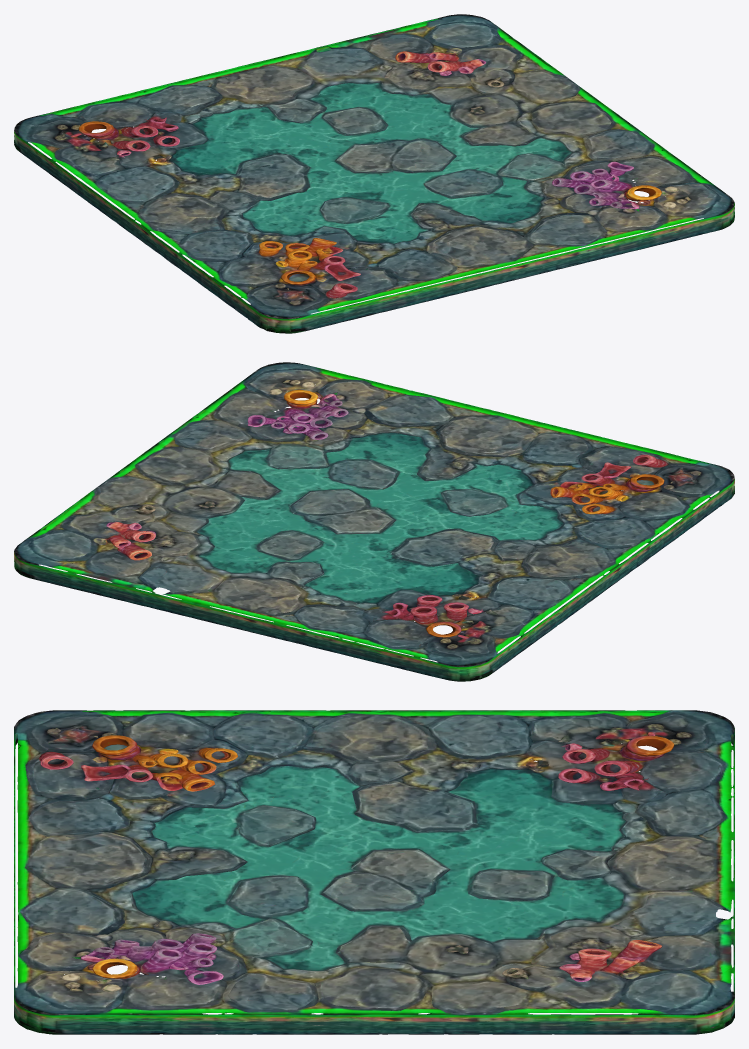
Rendered from OceanFloor_TidePool_A_UnrealReady.glb.
The picture shows the model from 3 angles, top to bottom: view 1: azimuth 30°, elevation 25°; view 2: azimuth 150°, elevation 25°; view 3: azimuth 270°, elevation 25°; orthographic projection. The views are drawn at different scales.
Parts seen in each view (by area): view 1: OceanFloor_TidePool_A_UnrealReady; view 2: OceanFloor_TidePool_A_UnrealReady; view 3: OceanFloor_TidePool_A_UnrealReady.
Part boxes in pixels (x1,y1,x2,y2): OceanFloor_TidePool_A_UnrealReady: (14, 14, 734, 333); OceanFloor_TidePool_A_UnrealReady: (14, 362, 734, 681); OceanFloor_TidePool_A_UnrealReady: (14, 710, 734, 1034).
Size of the model in its own units: 6 by 0.24 by 6.
1 material, 1 textured.
